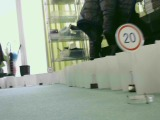speed_20: (115, 24, 144, 53)
